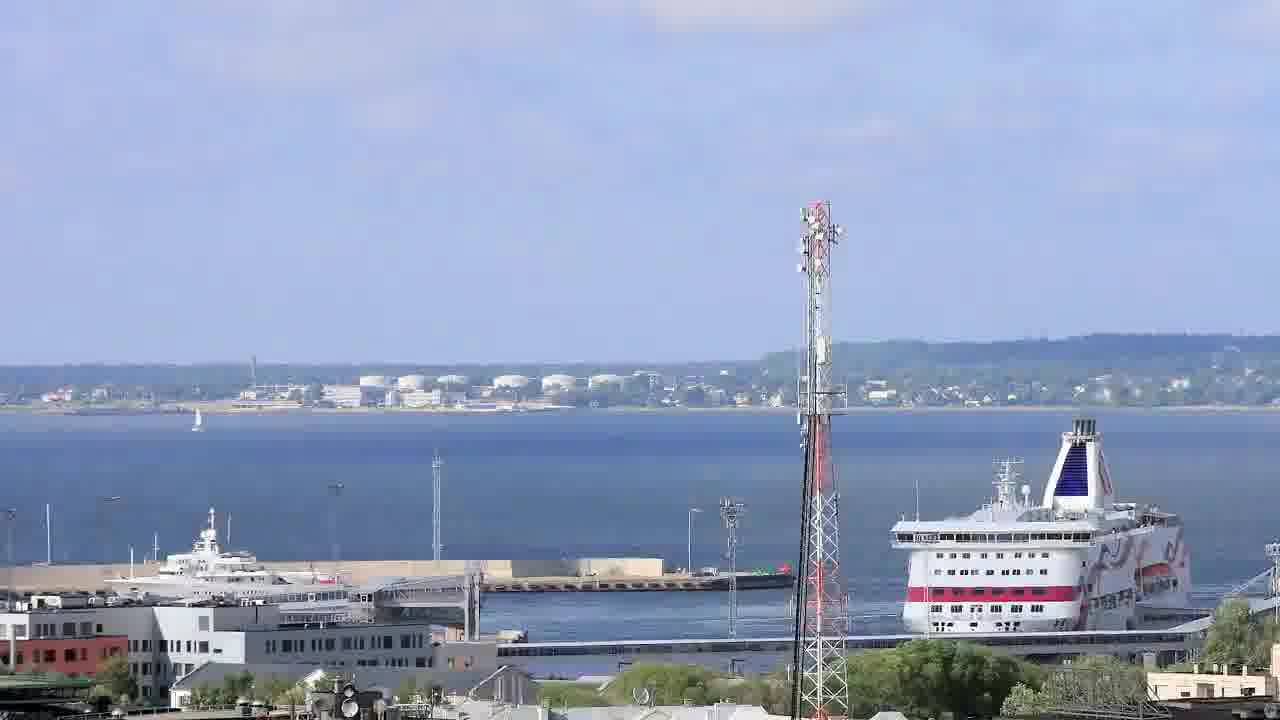type-2: (180, 396, 227, 451)
type-3: (868, 415, 1225, 638), (89, 518, 402, 620)
